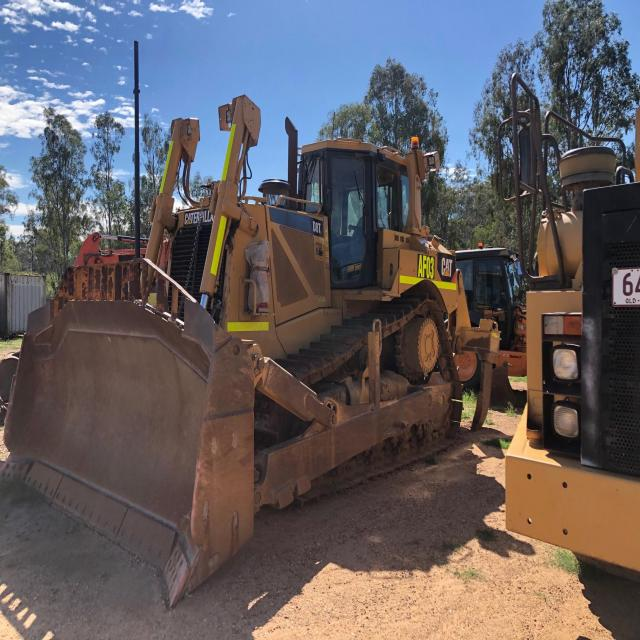Bulldozer: (19, 51, 496, 598)
